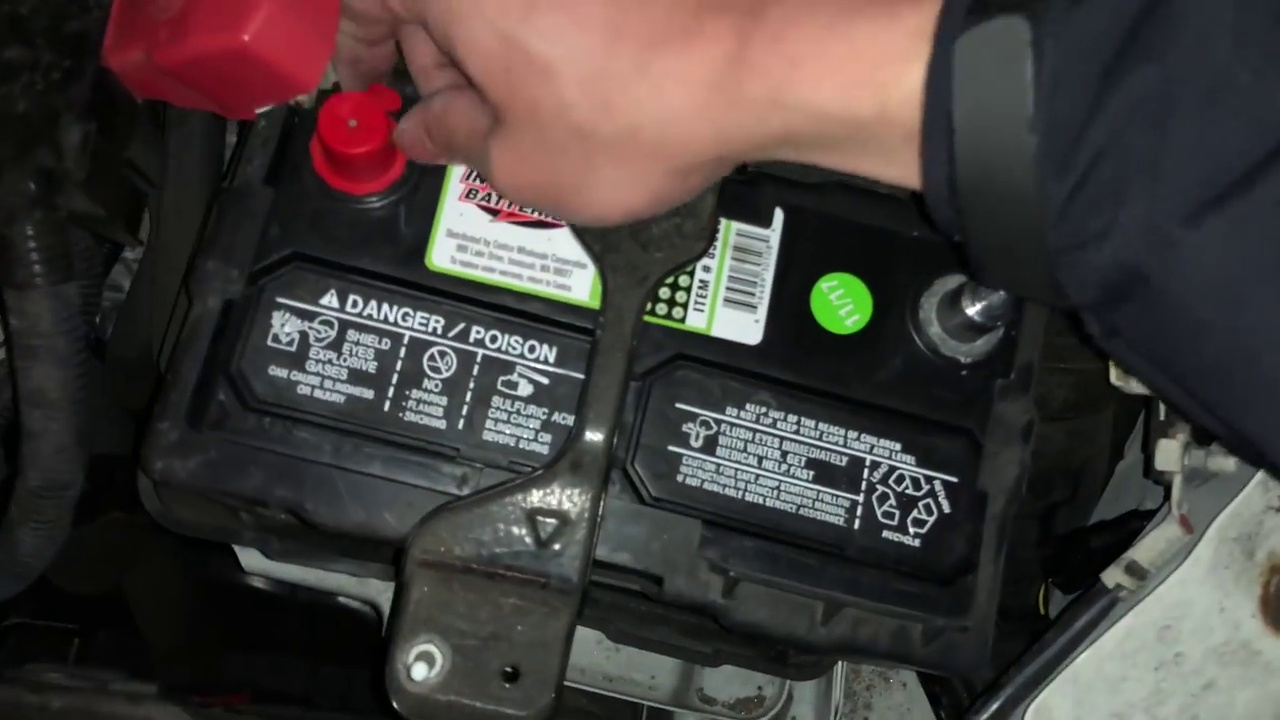battery: (264, 76, 1048, 630)
neg_disconnected: (930, 242, 1030, 383)
pos_disconnected: (152, 13, 404, 200)
pos_touched: (169, 2, 578, 203)
